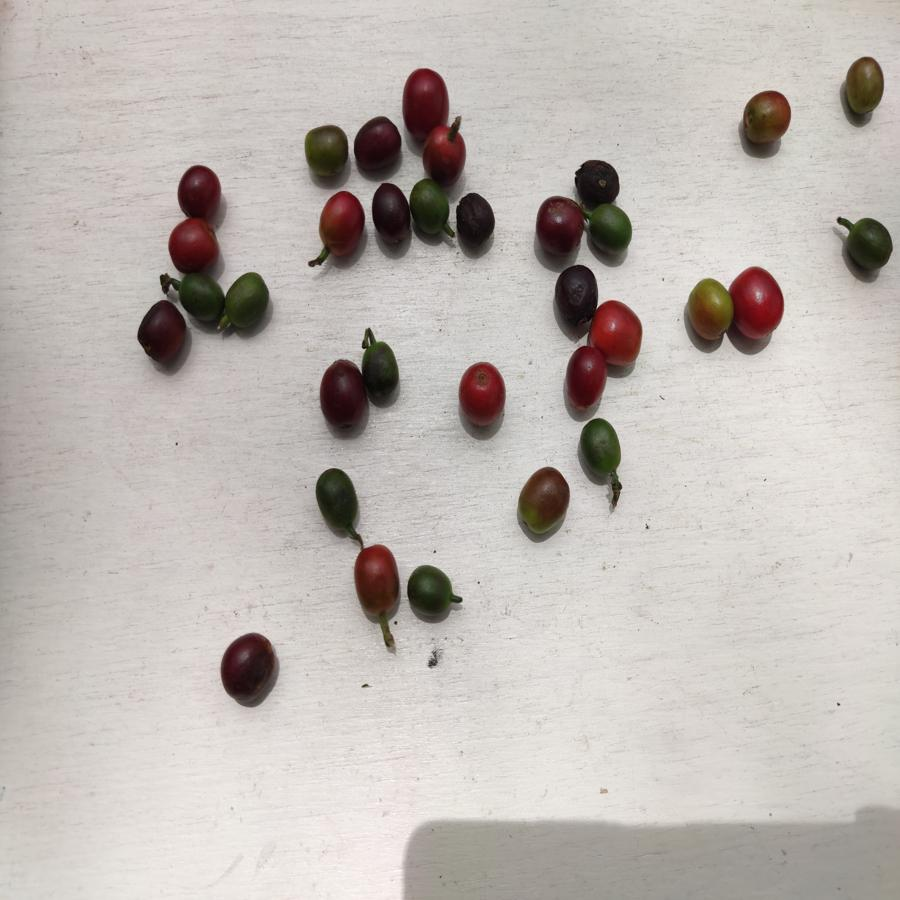Inmaduro: (578, 417, 629, 478), (842, 215, 893, 275), (314, 468, 362, 531), (406, 564, 455, 624), (226, 271, 271, 332), (409, 178, 452, 236), (586, 203, 632, 255), (178, 273, 224, 324), (364, 339, 401, 401)
Maduro: (401, 67, 458, 143), (734, 266, 788, 338), (354, 544, 401, 621), (315, 191, 367, 259), (594, 299, 644, 369), (457, 362, 510, 426), (564, 343, 609, 405), (166, 220, 220, 269), (429, 124, 466, 161)
Pinton: (516, 467, 571, 538), (683, 274, 733, 344), (741, 91, 795, 147), (841, 55, 885, 116), (302, 125, 350, 178)
Sobremaduro: (221, 633, 275, 707), (316, 359, 365, 427), (135, 303, 186, 365), (175, 162, 228, 221), (369, 180, 412, 250), (534, 195, 584, 254), (554, 262, 599, 324), (355, 116, 402, 173), (453, 194, 497, 247), (575, 158, 622, 203)
